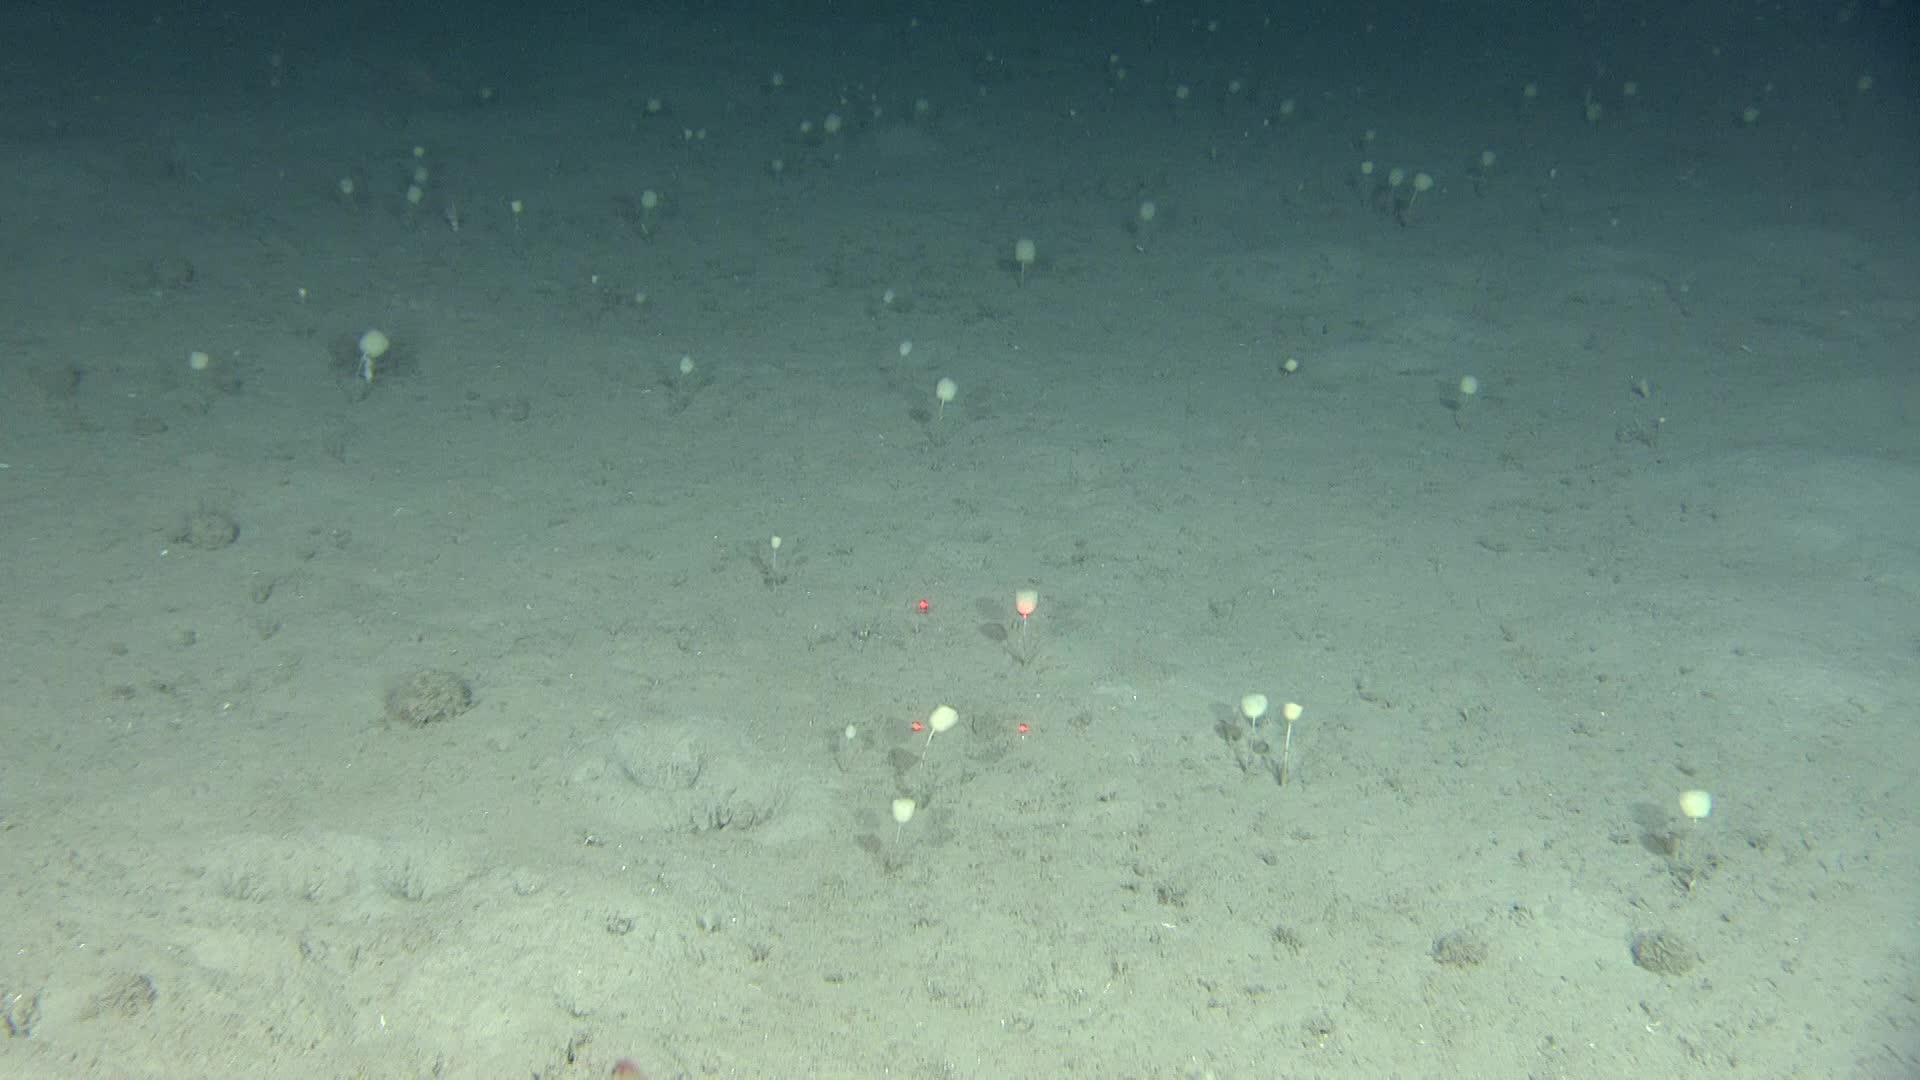S.borealis: (912, 686, 970, 783), (1267, 697, 1306, 794), (1670, 772, 1709, 869), (336, 324, 394, 389), (1229, 686, 1267, 783), (998, 572, 1037, 659), (922, 373, 960, 448), (883, 788, 922, 853), (173, 335, 211, 400), (1402, 162, 1440, 227), (883, 329, 922, 383), (826, 718, 864, 772), (672, 351, 710, 405), (250, 38, 288, 92), (998, 238, 1037, 281), (326, 162, 365, 205), (1843, 65, 1882, 108), (634, 86, 672, 130), (749, 529, 787, 572), (1440, 367, 1478, 410), (634, 184, 672, 227), (1728, 97, 1766, 140), (1267, 351, 1306, 383), (902, 92, 941, 124), (1152, 81, 1190, 113), (1142, 189, 1162, 243), (1526, 76, 1546, 119), (1277, 86, 1296, 130), (1469, 140, 1488, 184), (1584, 86, 1603, 130), (298, 281, 317, 324), (394, 173, 413, 216), (413, 130, 432, 173), (1354, 119, 1373, 162), (1354, 162, 1373, 205), (1392, 162, 1411, 205), (470, 81, 490, 113), (1622, 81, 1642, 113), (874, 286, 893, 319), (624, 286, 643, 319), (413, 167, 432, 200), (682, 124, 701, 157), (701, 113, 720, 146), (778, 59, 797, 92), (797, 113, 816, 146), (1219, 70, 1238, 103), (1258, 5, 1277, 38), (1757, 70, 1776, 103), (1834, 5, 1853, 38), (586, 265, 605, 297), (509, 200, 528, 232), (778, 146, 797, 178), (816, 103, 835, 135), (970, 81, 989, 113), (1104, 49, 1123, 81), (1066, 97, 1085, 119), (1699, 32, 1718, 54), (1104, 65, 1123, 86), (1200, 22, 1219, 43), (1181, 11, 1200, 32)
